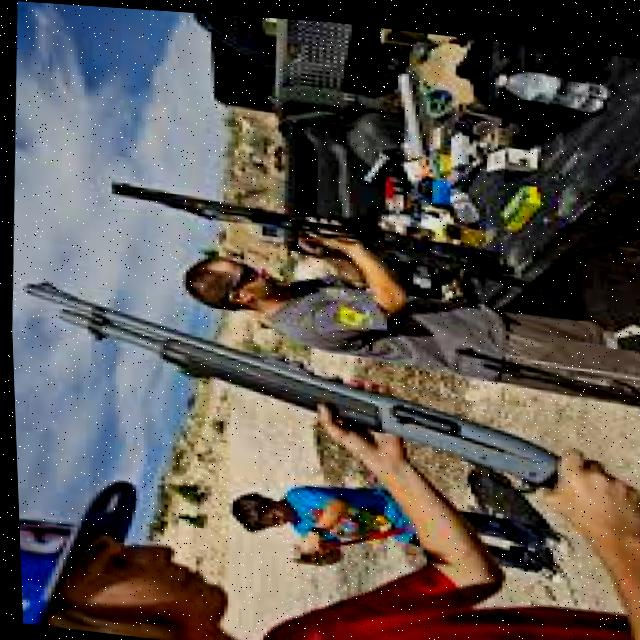firearm: (8, 272, 640, 545), (104, 180, 519, 281)
